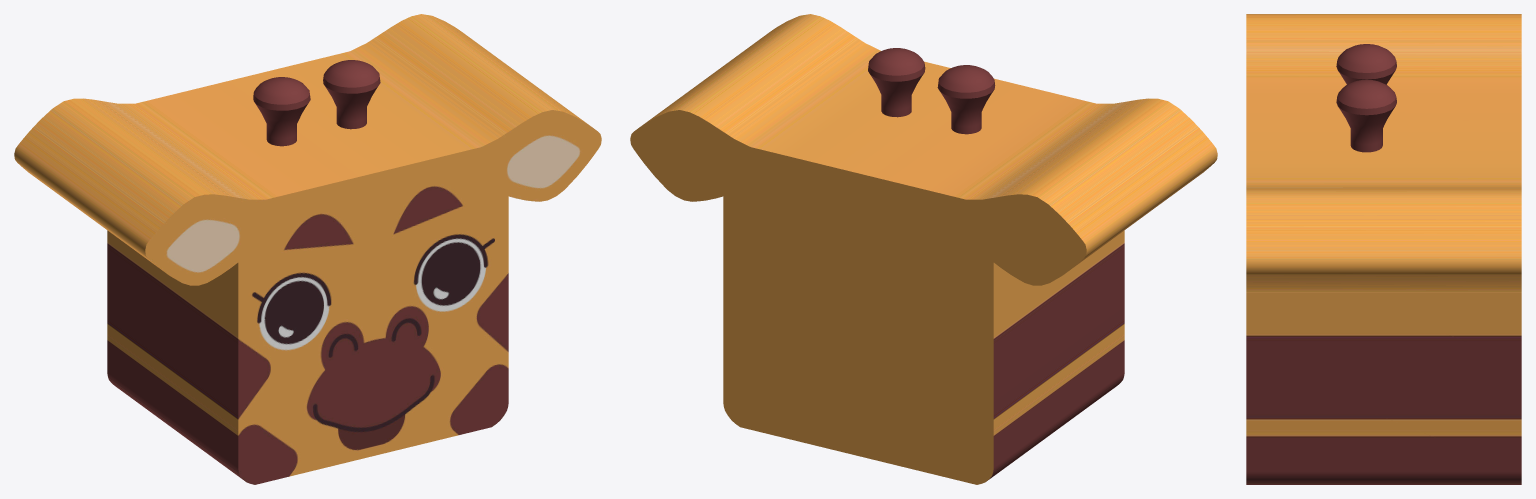
The model's file is Giraffe.fbx.
3 views of the same model, side by side, from view 1: azimuth 30°, elevation 25°; view 2: azimuth 150°, elevation 25°; view 3: azimuth 270°, elevation 25° (orthographic). The views are drawn at different scales.
Parts seen in each view (by area): view 1: Giraffe; view 2: Giraffe; view 3: Giraffe.
Part boxes in pixels (box(x1,y1,x2,y2)): Giraffe: box(14, 14, 601, 484); Giraffe: box(630, 14, 1217, 484); Giraffe: box(1246, 14, 1521, 484).
Bounding box in the file's own units: 9.04 × 6.46 × 4.49.
Materials: 1 (1 with a texture image).
